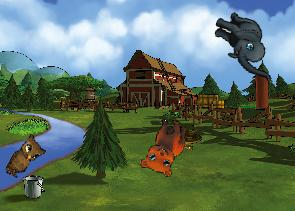bear: (138, 114, 188, 178)
elephant: (203, 8, 286, 82)
owl: (3, 131, 50, 185)
